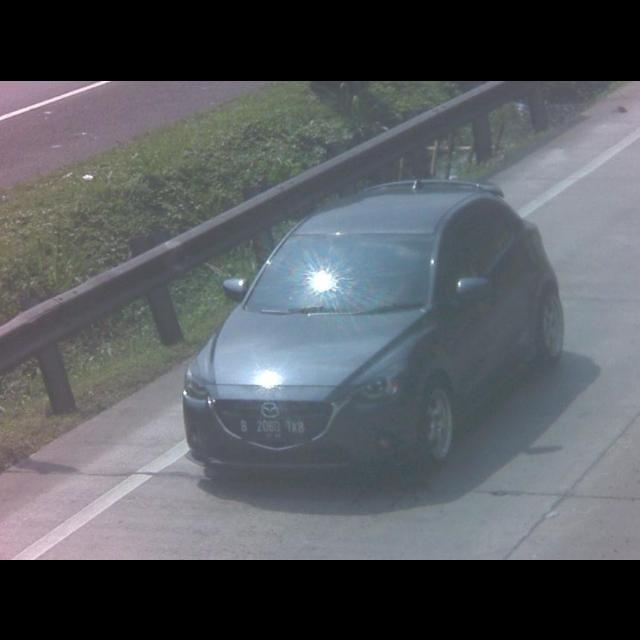plate: (237, 415, 307, 439)
